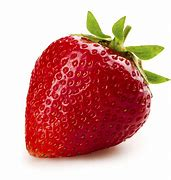Fresa: (22, 28, 155, 161)
